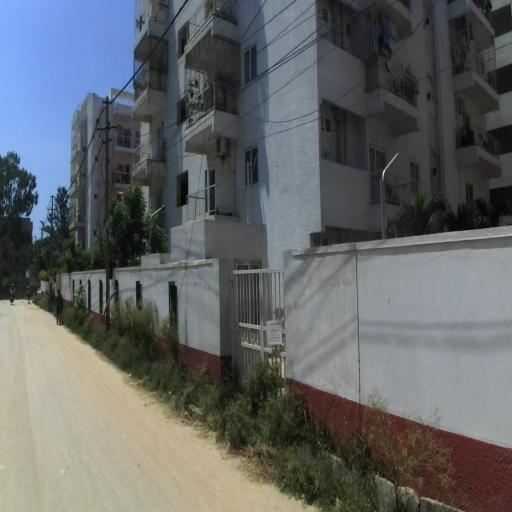street_light_0: (40, 221, 46, 227), (34, 235, 38, 241)
